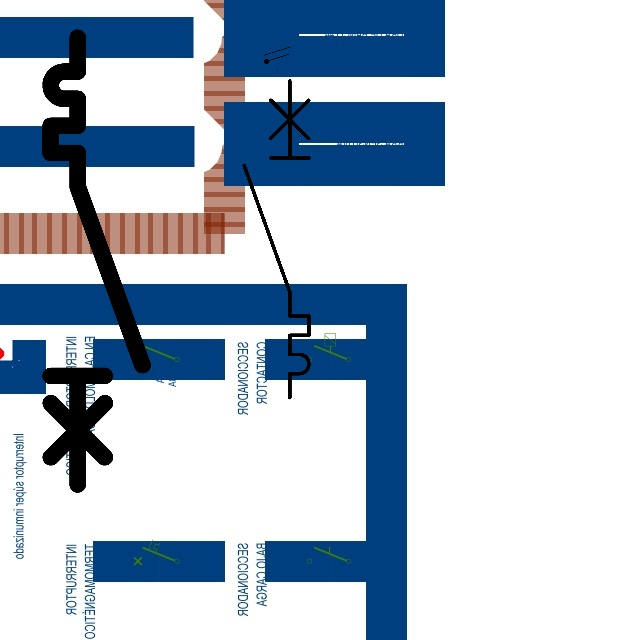interruptor_termomagnetico: (39, 26, 154, 496), (236, 72, 317, 405)
